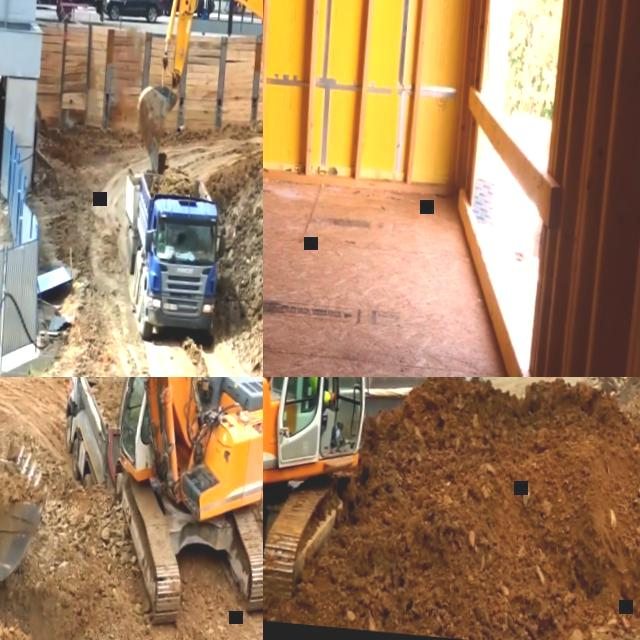machinery: (263, 377, 601, 628), (0, 377, 263, 640), (127, 0, 263, 223), (112, 150, 236, 348), (54, 377, 138, 491)
person: (301, 377, 346, 447), (157, 227, 170, 246), (141, 416, 150, 442)
vehicle: (32, 0, 115, 26), (104, 0, 168, 25), (159, 0, 218, 21)
vest: (306, 377, 319, 393), (158, 231, 165, 244)
